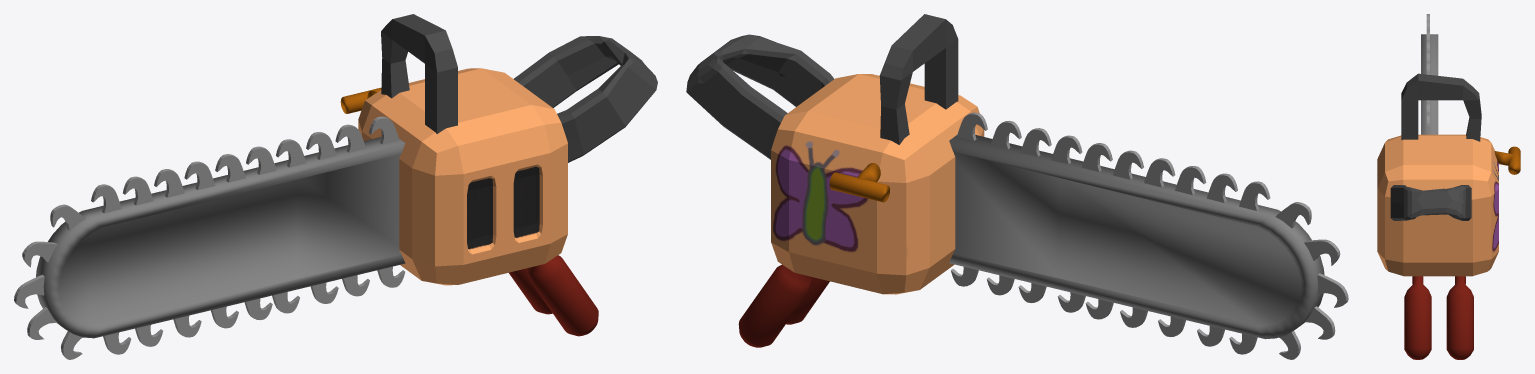
The model's file is anim1blend.glb.
3 views of the same model, side by side, from view 1: azimuth 30°, elevation 25°; view 2: azimuth 150°, elevation 25°; view 3: azimuth 270°, elevation 25° (orthographic). The views are drawn at different scales.
Parts seen in each view (by area): view 1: Cube.001, Circle.003, Circle, Cube.006, Cube.005, Circle.005, Circle.004, Plane.036, Plane, Plane.047, Plane.037, Plane.038 (+10 smaller); view 2: Cube.001, Circle, Circle.003, Cube.006, Cube.005, Circle.004, Cylinder.001, Circle.002, Plane.036, Circle.005, Plane, Plane.047 (+10 smaller); view 3: Cube.001, Cube.005, Cube.006, Circle.004, Circle.005, Circle, Circle.002, Circle.003, Cylinder.001.
Boxes of the visible parts, left/top/right/bottom form: Cube.001: left=358, top=68, right=567, bottom=285; Circle.003: left=36, top=137, right=405, bottom=337; Circle: left=37, top=139, right=405, bottom=338; Cube.006: left=514, top=36, right=657, bottom=162; Cube.005: left=381, top=14, right=457, bottom=133; Circle.005: left=528, top=255, right=598, bottom=336; Circle.004: left=509, top=268, right=552, bottom=314; Plane.036: left=14, top=274, right=44, bottom=308; Plane: left=91, top=184, right=121, bottom=213; Plane.047: left=123, top=176, right=153, bottom=205; Plane.037: left=22, top=241, right=57, bottom=267; Plane.038: left=50, top=204, right=85, bottom=230; Cube.001: left=771, top=74, right=984, bottom=294; Circle: left=949, top=135, right=1324, bottom=323; Circle.003: left=949, top=199, right=1324, bottom=339; Cube.006: left=686, top=34, right=833, bottom=159; Cube.005: left=879, top=14, right=958, bottom=144; Circle.004: left=738, top=264, right=810, bottom=347; Cylinder.001: left=829, top=163, right=889, bottom=202; Circle.002: left=786, top=277, right=828, bottom=324; Plane.036: left=1317, top=273, right=1348, bottom=307; Circle.005: left=787, top=277, right=829, bottom=324; Plane: left=1239, top=181, right=1270, bottom=210; Plane.047: left=1207, top=173, right=1237, bottom=202; Cube.001: left=1377, top=134, right=1498, bottom=276; Cube.005: left=1401, top=73, right=1481, bottom=141; Cube.006: left=1390, top=185, right=1471, bottom=220; Circle.004: left=1446, top=276, right=1473, bottom=359; Circle.005: left=1404, top=276, right=1431, bottom=359; Circle: left=1421, top=34, right=1438, bottom=134; Circle.002: left=1409, top=276, right=1431, bottom=358; Circle.003: left=1421, top=34, right=1438, bottom=134; Cylinder.001: left=1494, top=146, right=1520, bottom=174.
Bounding box in the file's own units: 10.92 × 5.58 × 3.11.
10 materials, 2 textured.
